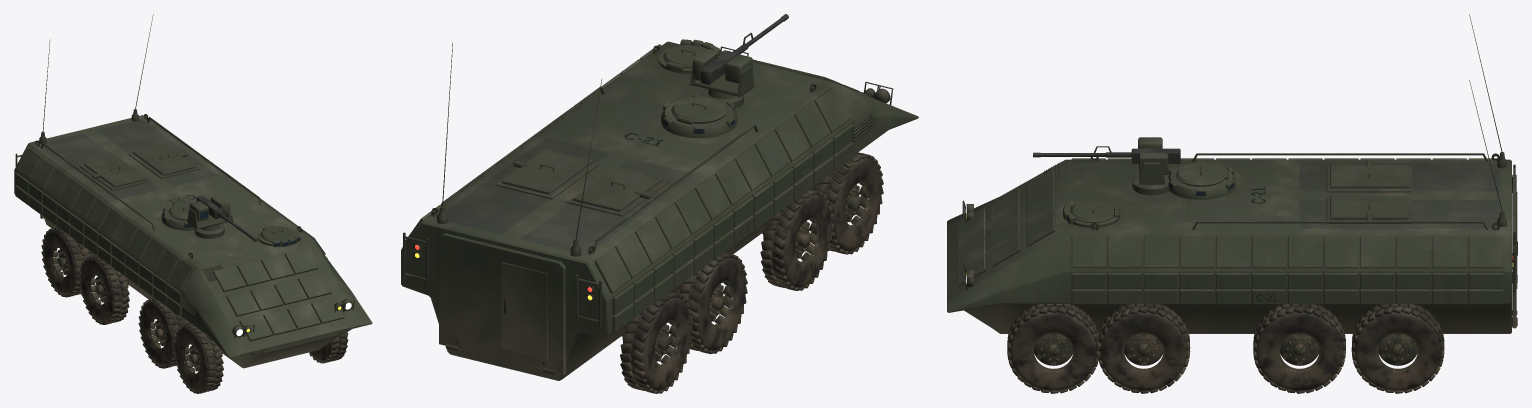
File: m1126_stryker_web.glb
3 renders of one model, left to right at view 1: azimuth 30°, elevation 25°; view 2: azimuth 150°, elevation 25°; view 3: azimuth 270°, elevation 25°, orthographic. The views are drawn at different scales.
Parts seen in each view (by area): view 1: Hull_Armour, Armour_Tiles, Wheel_1_Right_Mesh, Wheel_3_Right_Mesh, Wheel_4_Right_Mesh, Wheel_2_Right_Mesh, Roof_Fittings, Troop_Hatch_Left_Lid, Troop_Hatch_Right_Lid, RWS_Cradle_Mesh, RWS_Mount, Wheel_1_Left_Mesh (+5 smaller); view 2: Hull_Armour, Armour_Tiles, Ramp_Panel, Wheel_4_Right_Mesh, Wheel_2_Right_Mesh, Wheel_3_Right_Mesh, Wheel_1_Right_Mesh, Ramp_Door_Panel, Roof_Fittings, Troop_Hatch_Left_Lid, Troop_Hatch_Right_Lid, RWS_Cradle_Mesh (+7 smaller); view 3: Hull_Armour, Armour_Tiles, Wheel_3_Left_Mesh, Wheel_4_Left_Mesh, Wheel_1_Left_Mesh, Wheel_2_Left_Mesh, Roof_Fittings, Troop_Hatch_Right_Lid, Troop_Hatch_Left_Lid, RWS_Cradle_Mesh, Commander_Hatch_Lid, RWS_Mount (+4 smaller).
Part boxes in pixels (x1=…): Hull_Armour: x1=14, y1=115, x2=372, y2=368; Armour_Tiles: x1=15, y1=119, x2=344, y2=341; Wheel_1_Right_Mesh: x1=173, y1=323, x2=223, y2=393; Wheel_3_Right_Mesh: x1=79, y1=254, x2=129, y2=324; Wheel_4_Right_Mesh: x1=41, y1=227, x2=89, y2=297; Wheel_2_Right_Mesh: x1=138, y1=298, x2=188, y2=368; Roof_Fittings: x1=35, y1=109, x2=301, y2=258; Troop_Hatch_Left_Lid: x1=133, y1=144, x2=195, y2=175; Troop_Hatch_Right_Lid: x1=84, y1=156, x2=146, y2=187; RWS_Cradle_Mesh: x1=189, y1=195, x2=257, y2=242; RWS_Mount: x1=187, y1=204, x2=231, y2=238; Wheel_1_Left_Mesh: x1=309, y1=332, x2=348, y2=363; Hull_Armour: x1=401, y1=41, x2=918, y2=380; Armour_Tiles: x1=402, y1=44, x2=869, y2=332; Ramp_Panel: x1=439, y1=233, x2=565, y2=375; Wheel_4_Right_Mesh: x1=620, y1=292, x2=693, y2=393; Wheel_2_Right_Mesh: x1=760, y1=189, x2=833, y2=290; Wheel_3_Right_Mesh: x1=679, y1=252, x2=747, y2=353; Wheel_1_Right_Mesh: x1=812, y1=152, x2=883, y2=254; Ramp_Door_Panel: x1=501, y1=262, x2=547, y2=358; Roof_Fittings: x1=431, y1=45, x2=816, y2=256; Troop_Hatch_Left_Lid: x1=502, y1=149, x2=592, y2=194; Troop_Hatch_Right_Lid: x1=572, y1=166, x2=663, y2=211; RWS_Cradle_Mesh: x1=693, y1=14, x2=788, y2=84; Hull_Armour: x1=947, y1=159, x2=1511, y2=333; Armour_Tiles: x1=957, y1=158, x2=1502, y2=304; Wheel_3_Left_Mesh: x1=1253, y1=304, x2=1345, y2=393; Wheel_4_Left_Mesh: x1=1351, y1=304, x2=1444, y2=393; Wheel_1_Left_Mesh: x1=1007, y1=304, x2=1099, y2=393; Wheel_2_Left_Mesh: x1=1097, y1=304, x2=1190, y2=393; Roof_Fittings: x1=1090, y1=152, x2=1506, y2=230; Troop_Hatch_Right_Lid: x1=1330, y1=160, x2=1408, y2=188; Troop_Hatch_Left_Lid: x1=1330, y1=196, x2=1408, y2=223; RWS_Cradle_Mesh: x1=1033, y1=137, x2=1180, y2=174; Commander_Hatch_Lid: x1=1176, y1=163, x2=1228, y2=186; RWS_Mount: x1=1132, y1=162, x2=1169, y2=195.
Size of the model in its own units: 2.72 by 4.07 by 6.96.
Materials: 6 (2 with a texture image).
